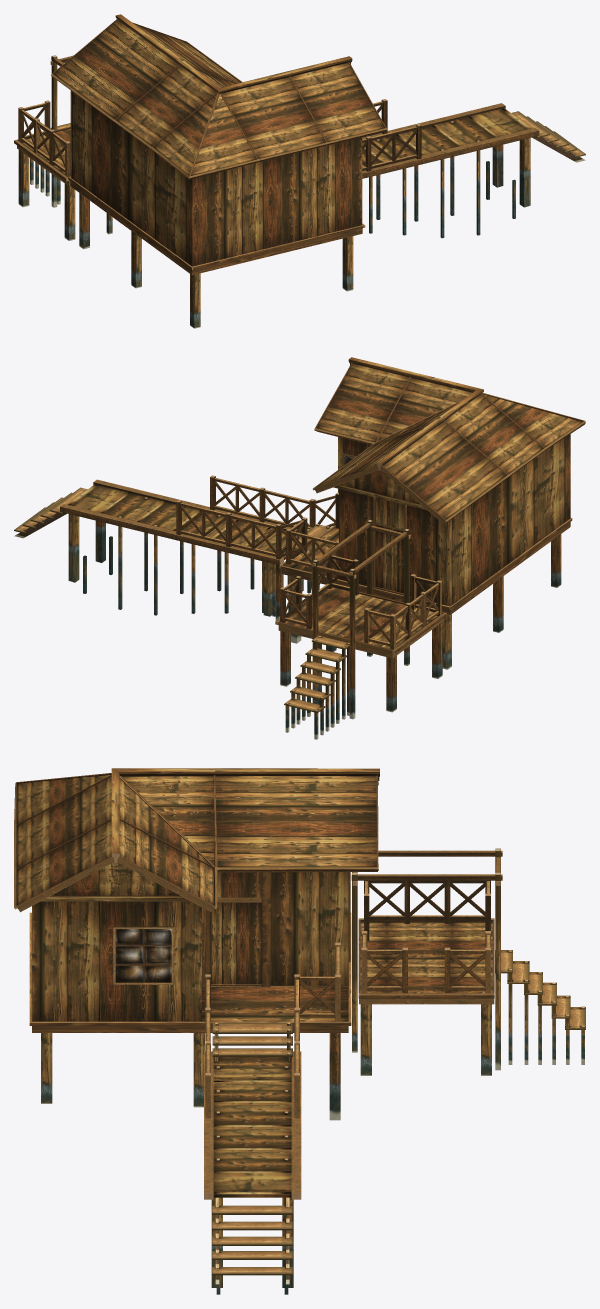
3 renders of one model, top to bottom at view 1: azimuth 30°, elevation 25°; view 2: azimuth 150°, elevation 25°; view 3: azimuth 270°, elevation 25°, orthographic. The views are drawn at different scales.
Visible parts, largest first — view 1: o_b_koyayane, o_b_koya, o_b_koyahashi, o_b_koyakashi02, o_b_koyaashihoso, o_b_koyahiroba, o_b_koyasaku02, o_b_koyasaku, o_b_koyakaidan, o_b_koyakaidan00; view 2: o_b_koyayane, o_b_koya, o_b_koyahashi, o_b_koyahiroba, o_b_koyasaku, o_b_koyasaku02, o_b_koyakaidan00, o_b_koyakashi02, o_b_koyaashihoso, o_b_koyakaidan; view 3: o_b_koya, o_b_koyayane, o_b_koyahashi, o_b_koyahiroba, o_b_koyakaidan, o_b_koyasaku02, o_b_koyakashi02, o_b_koyakaidan00, o_b_koyamadogara_g, o_b_koyasaku.
Part boxes in pixels (x1,y1,x2,y2): o_b_koyayane: (51,14,387,179); o_b_koya: (68,90,365,275); o_b_koyahashi: (362,103,585,207); o_b_koyakashi02: (18,150,353,328); o_b_koyaashihoso: (369,121,515,238); o_b_koyahiroba: (14,55,112,234); o_b_koyasaku02: (18,100,70,176); o_b_koyasaku: (362,99,421,171); o_b_koyakaidan: (511,111,585,157); o_b_koyakaidan00: (30,123,70,204); o_b_koyayane: (313,357,585,524); o_b_koya: (279,434,572,614); o_b_koyahashi: (14,479,311,621); o_b_koyahiroba: (275,520,446,719); o_b_koyasaku: (176,475,338,576); o_b_koyasaku02: (280,554,441,649); o_b_koyakaidan00: (284,635,349,739); o_b_koyakashi02: (280,534,561,712); o_b_koyaashihoso: (83,497,329,616); o_b_koyakaidan: (14,487,403,564); o_b_koya: (29,862,351,1032); o_b_koyayane: (14,768,379,912); o_b_koyahashi: (204,1051,301,1287); o_b_koyahiroba: (351,848,502,1070); o_b_koyakaidan: (212,942,293,1275); o_b_koyasaku02: (361,880,490,993); o_b_koyakashi02: (41,1004,491,1120); o_b_koyakaidan00: (495,950,585,1064); o_b_koyamadogara_g: (115,929,171,982); o_b_koyasaku: (205,942,340,1118).
Bounding box in the file's own units: 167 × 83.15 × 134.
11 materials, 11 textured.
